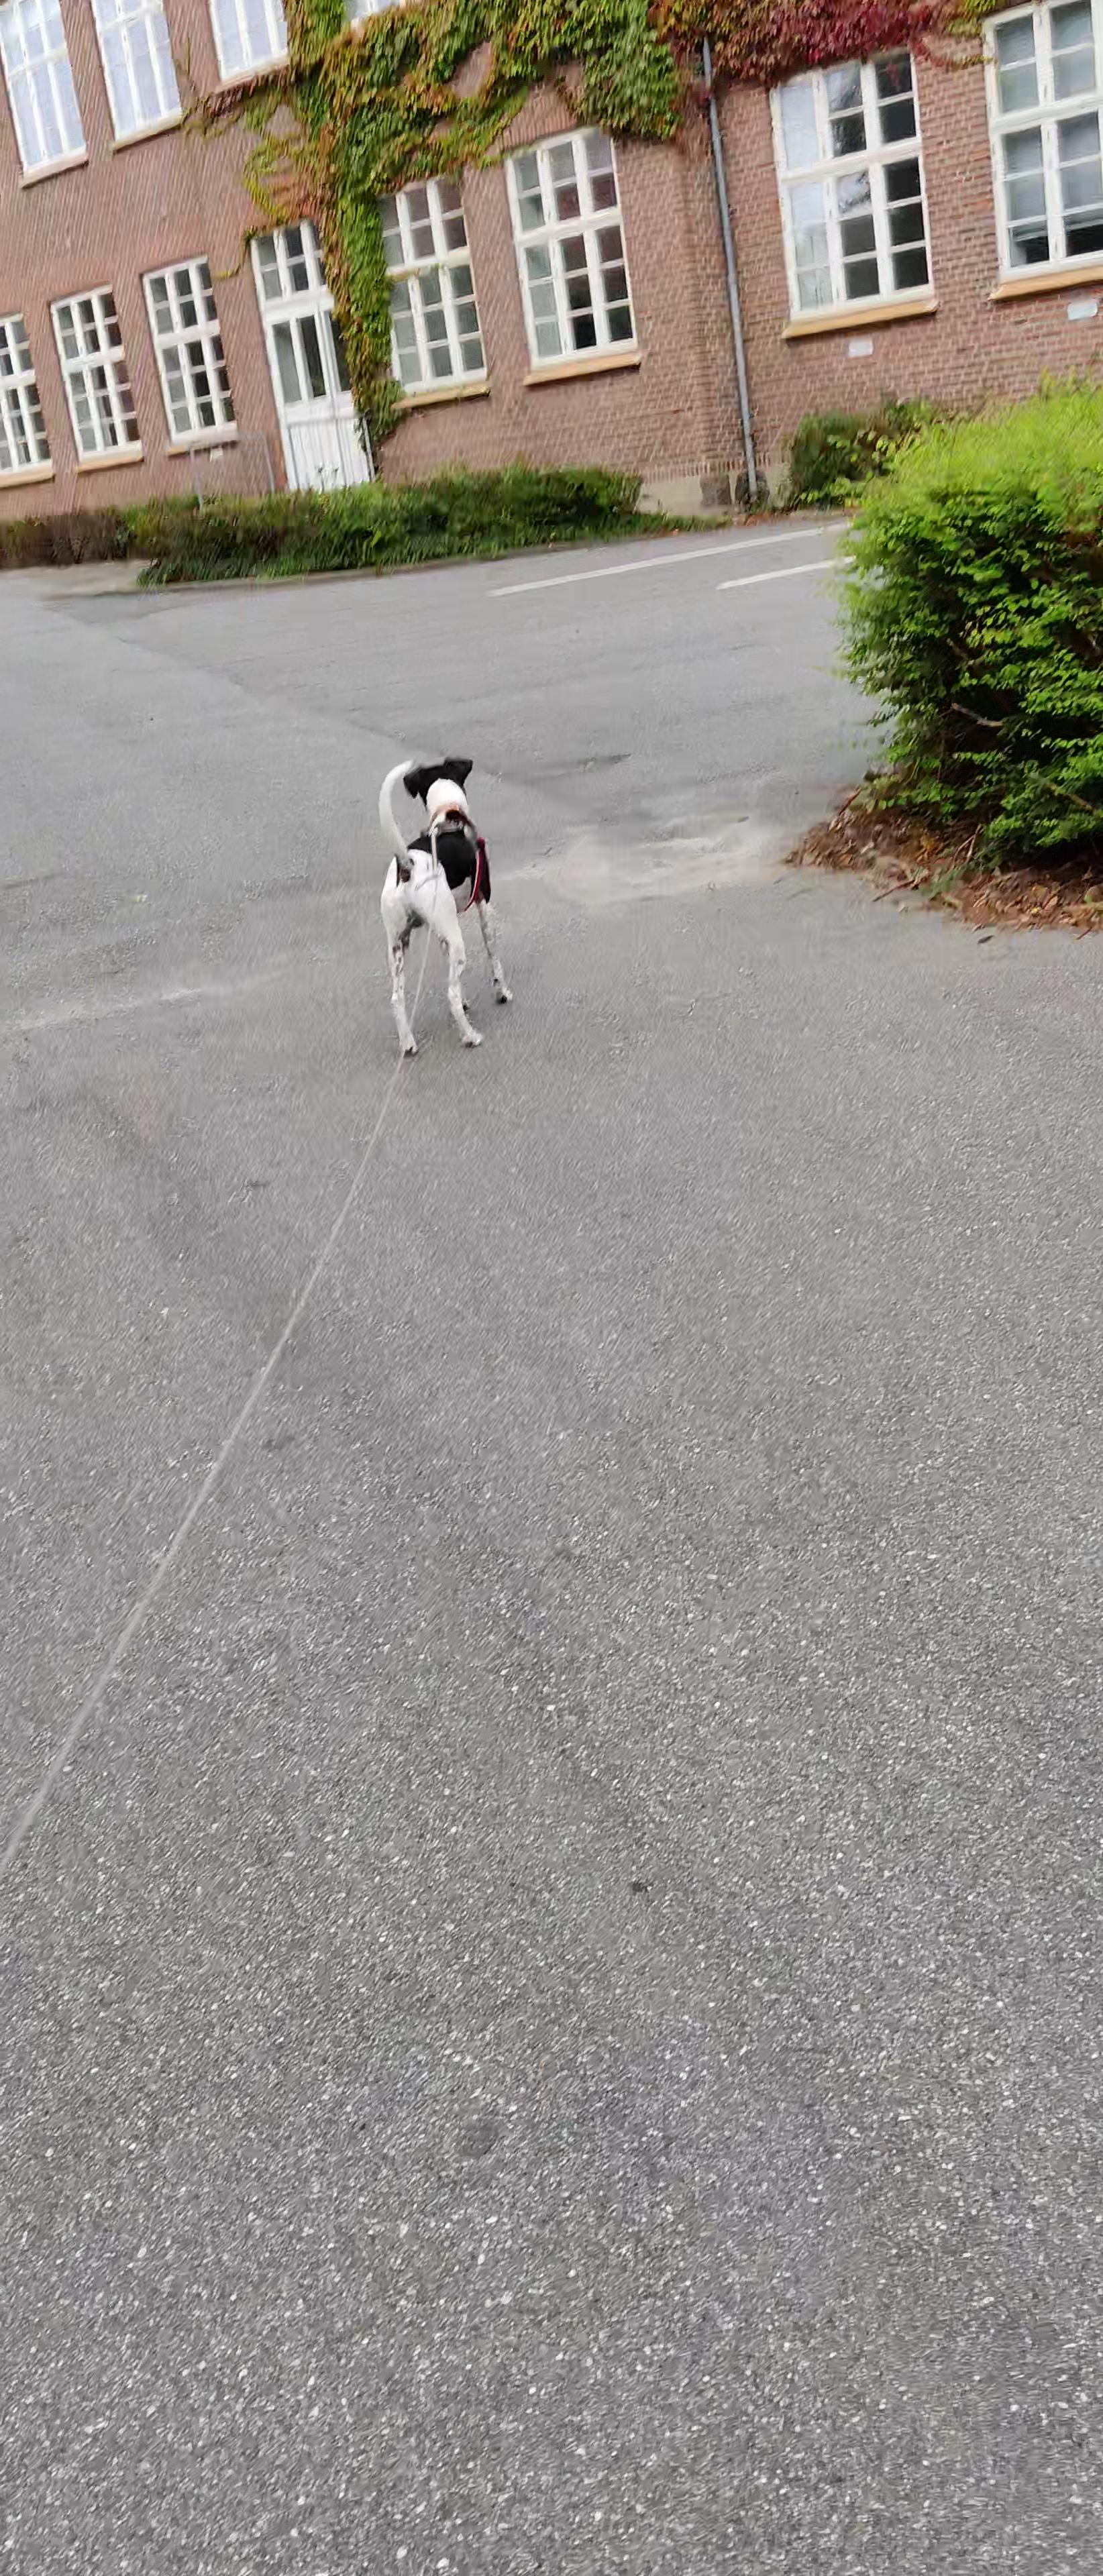Dog: (372, 751, 519, 1063)
